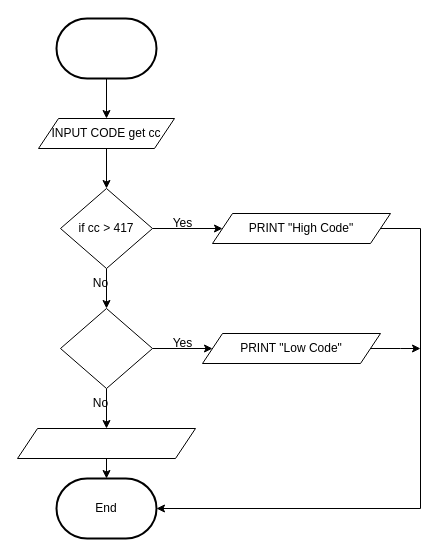
This 446x556 diagram has some shape labels left out. Here are the shapes that lost their labels. From the top down, the centre of each, then its label:
[106,48]: Start
[106,348]: else if cc < 417
[106,443]: PRINT "Congratulations"
